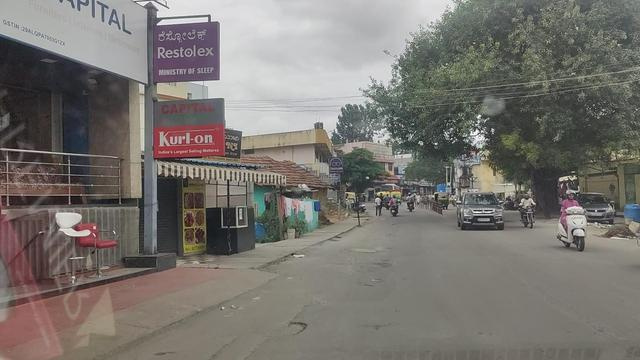RoadDamages: (209, 340, 273, 359), (271, 317, 310, 340), (337, 258, 394, 271), (359, 319, 398, 337), (344, 245, 387, 255), (356, 276, 386, 290)
